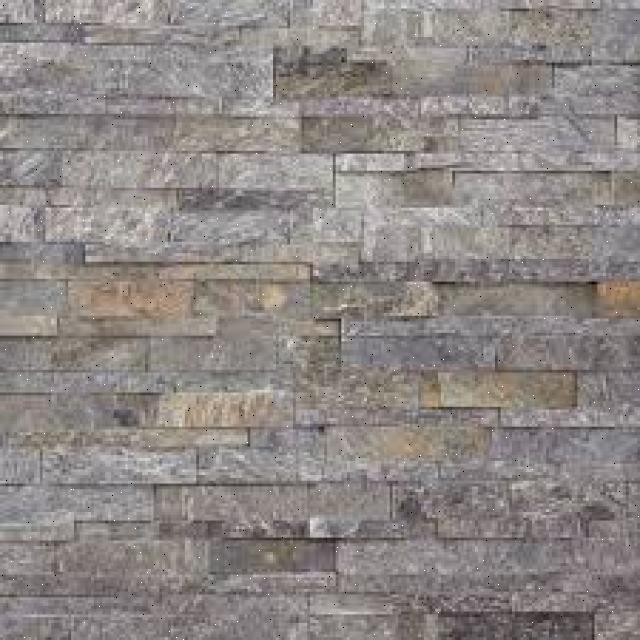Metamorphic: (3, 6, 631, 637)
